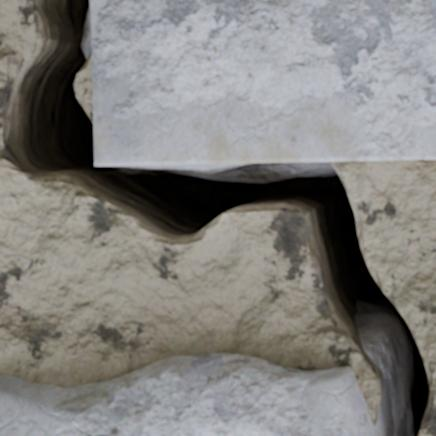brick: (91, 0, 435, 165), (0, 354, 375, 435)
crack: (0, 0, 433, 435)
